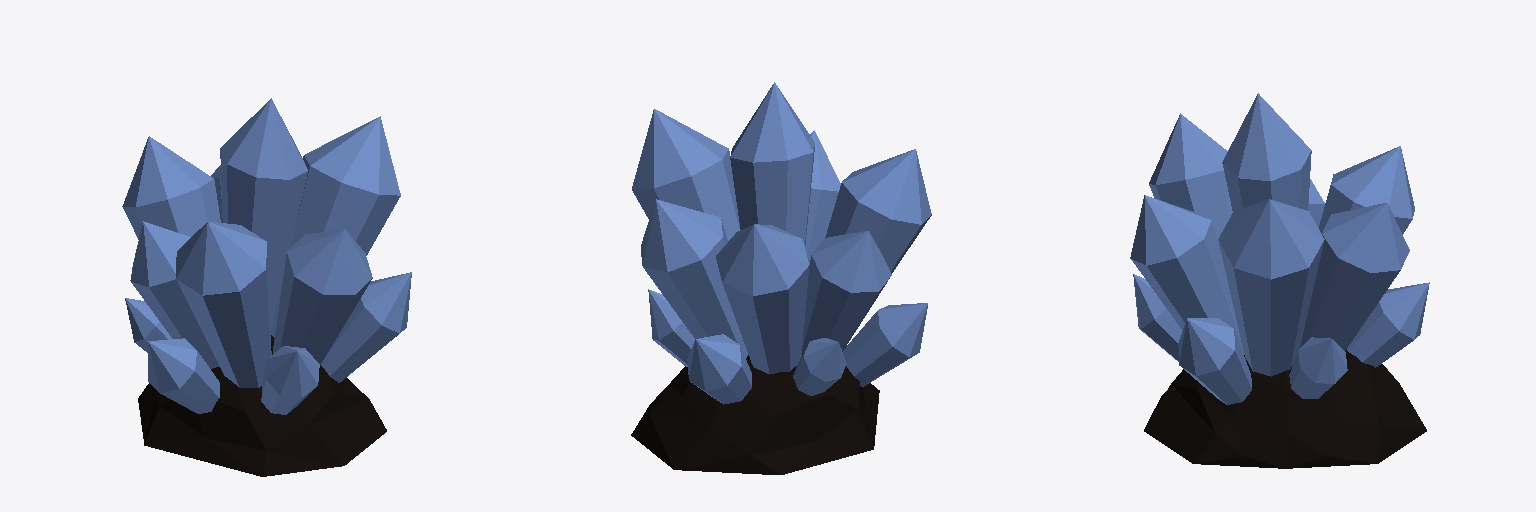
The model's file is Crystal1.obj.
3 renders of one model, left to right at view 1: azimuth 30°, elevation 25°; view 2: azimuth 150°, elevation 25°; view 3: azimuth 270°, elevation 25°, orthographic.
Parts seen in each view (by area): view 1: Crystal_Cylinder.007; view 2: Crystal_Cylinder.007; view 3: Crystal_Cylinder.007.
Part boxes in pixels (x1,y1,x2,y2): Crystal_Cylinder.007: (122, 98, 411, 476); Crystal_Cylinder.007: (631, 82, 931, 474); Crystal_Cylinder.007: (1130, 93, 1429, 468).
Size of the model in its own units: 1.35 by 1.58 by 1.3.